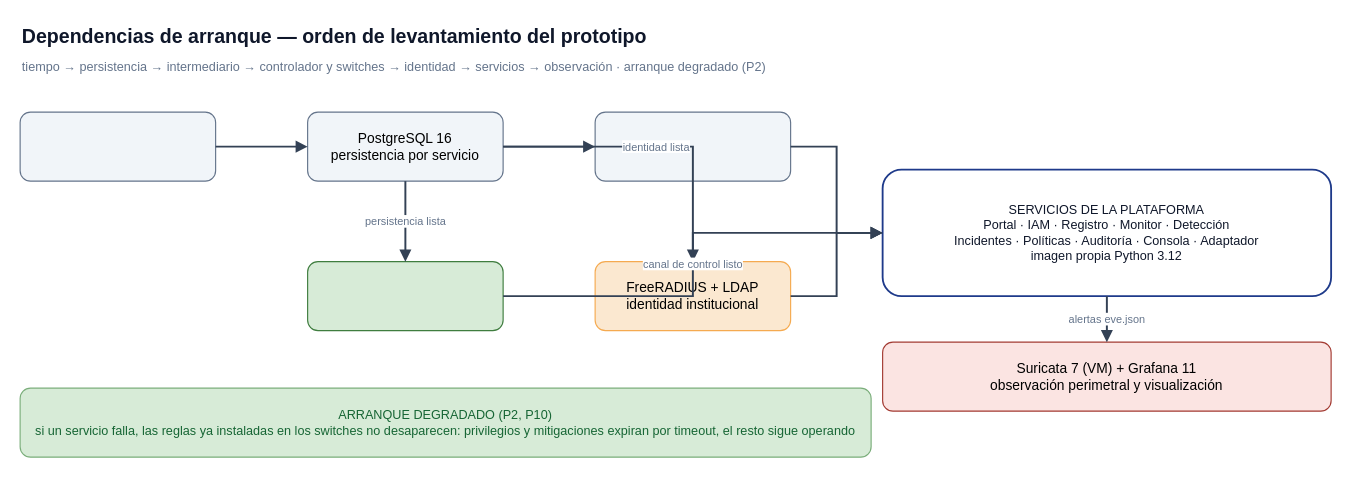
This 1352x477 diagram has some shape labels left out. The shapes that lost their labels are listed below. From the top down, each one's box as (x1, y1, x2, y2) in pixels, then its label:
(19, 111, 216, 181): chrony 4.5 tiempo común (UTC)
(594, 111, 791, 181): RabbitMQ 3.13 intermediario de eventos
(306, 260, 503, 331): ONOS + switches canal OOB · OpenFlow
